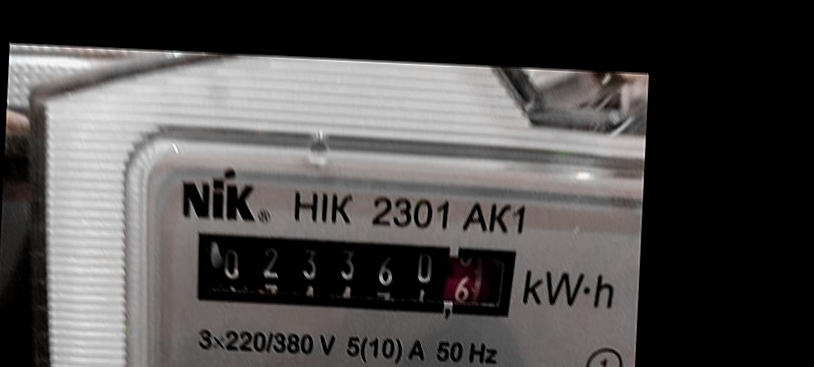0: (217, 243, 241, 279), (410, 248, 434, 284)
2: (258, 243, 280, 279)
3: (296, 245, 318, 281), (336, 246, 355, 280)
6: (372, 250, 394, 285), (450, 269, 469, 303)
screen: (179, 218, 534, 334)
